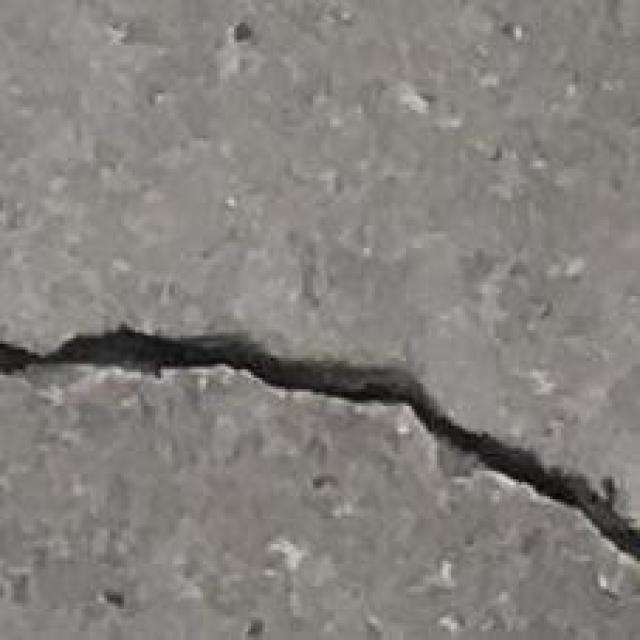Crack: (3, 304, 640, 556)
